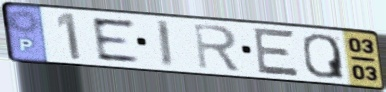1: (55, 10, 83, 62)
E: (253, 26, 302, 79), (88, 16, 142, 64)
I: (154, 18, 176, 69)
Q: (301, 32, 348, 81)
R: (191, 22, 244, 73)
